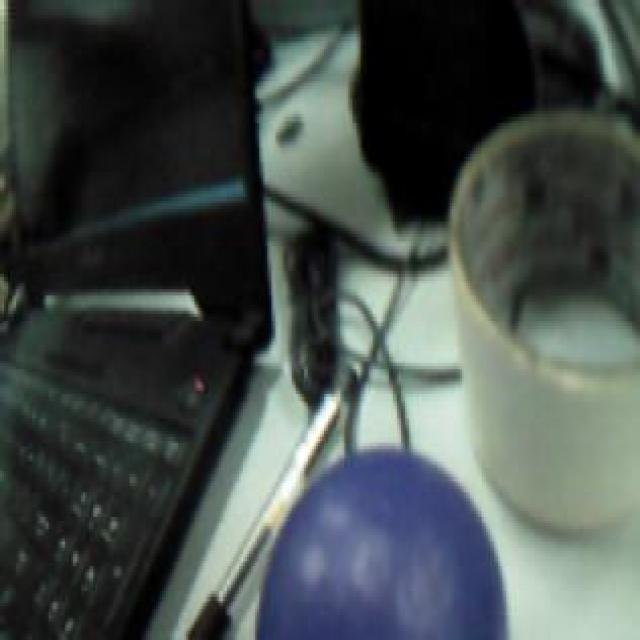BallPurple: (262, 448, 508, 640)
